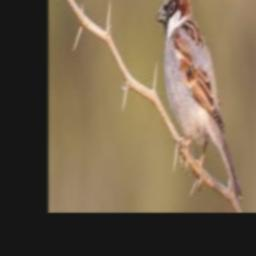Sparrow: (156, 0, 242, 202)
